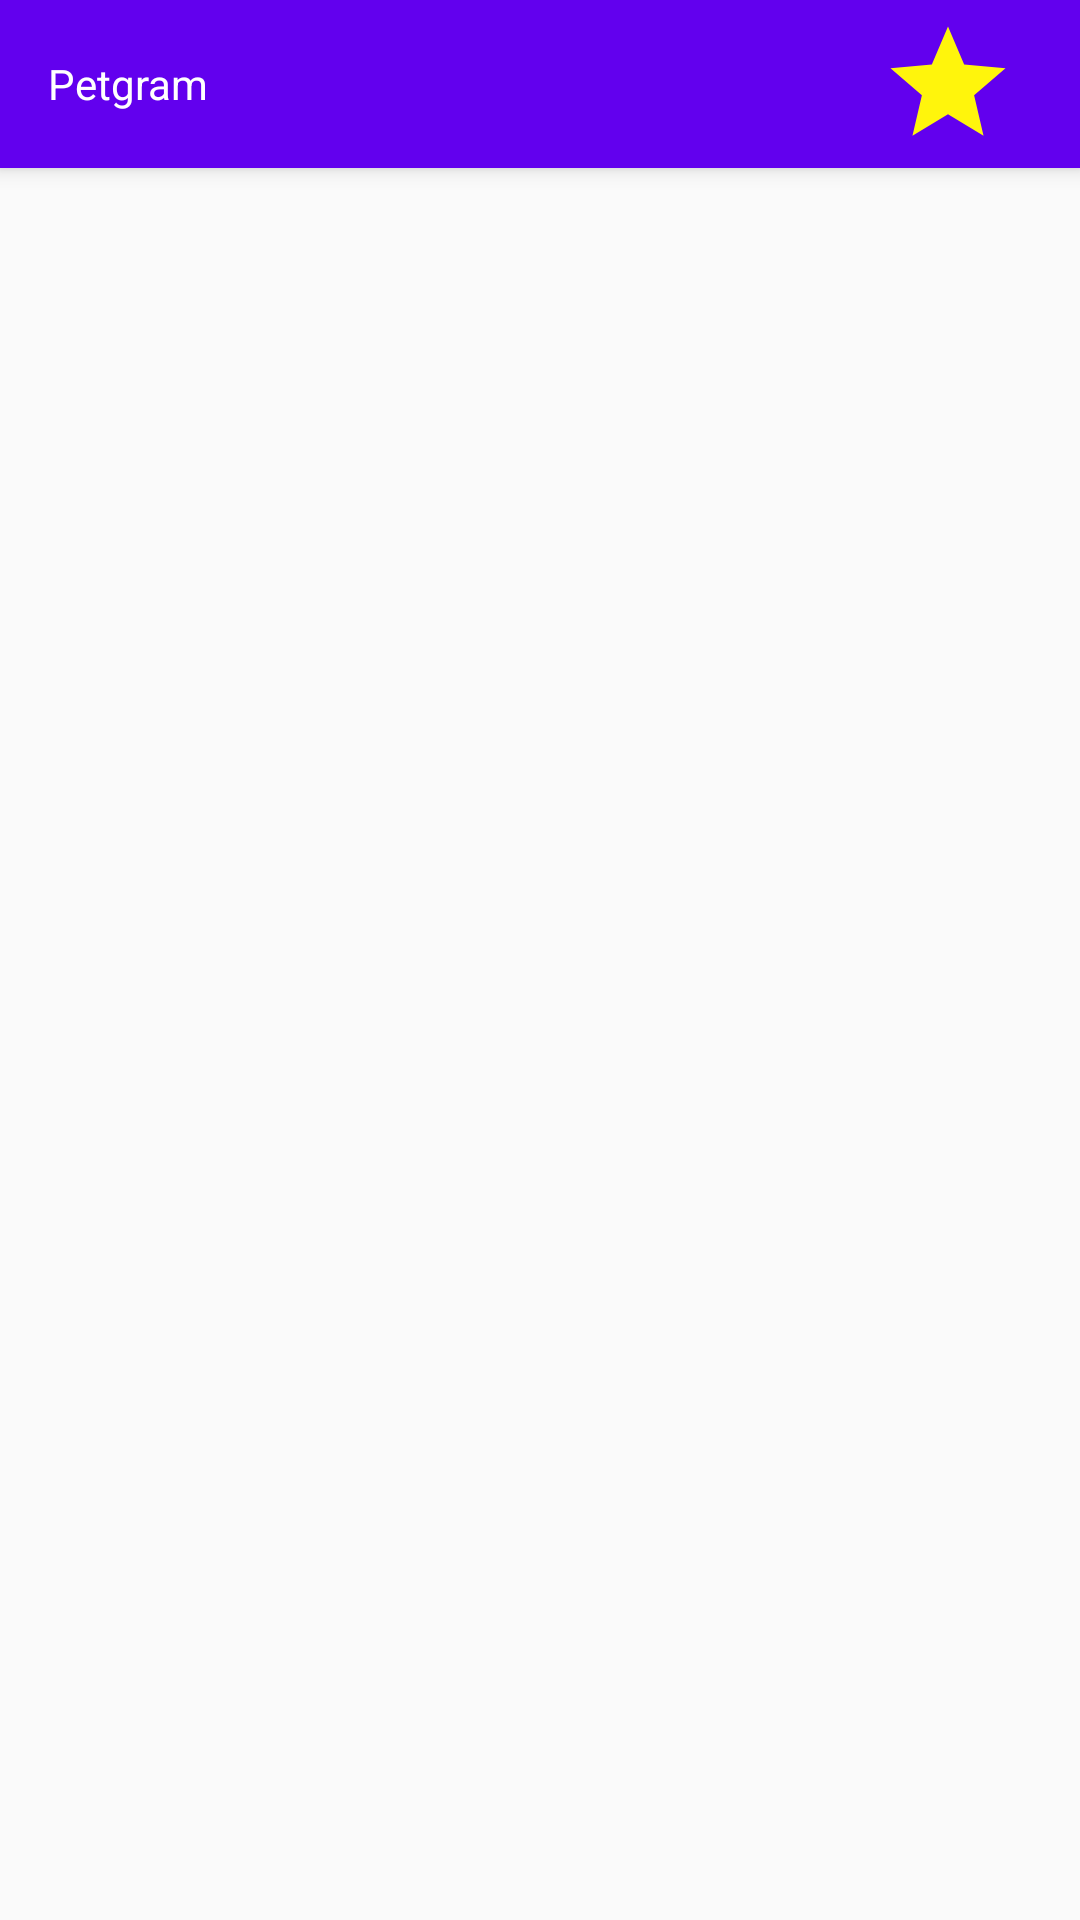

Named icons in this screenshot (1080 × 1920) and their centers, (x=x, y=y):
star: (x=948, y=81)
